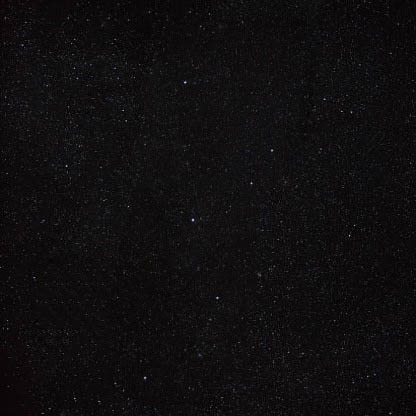Cassiopeia: (241, 143, 288, 193), (180, 209, 208, 234), (133, 360, 153, 390), (173, 69, 193, 99), (206, 285, 225, 310)
